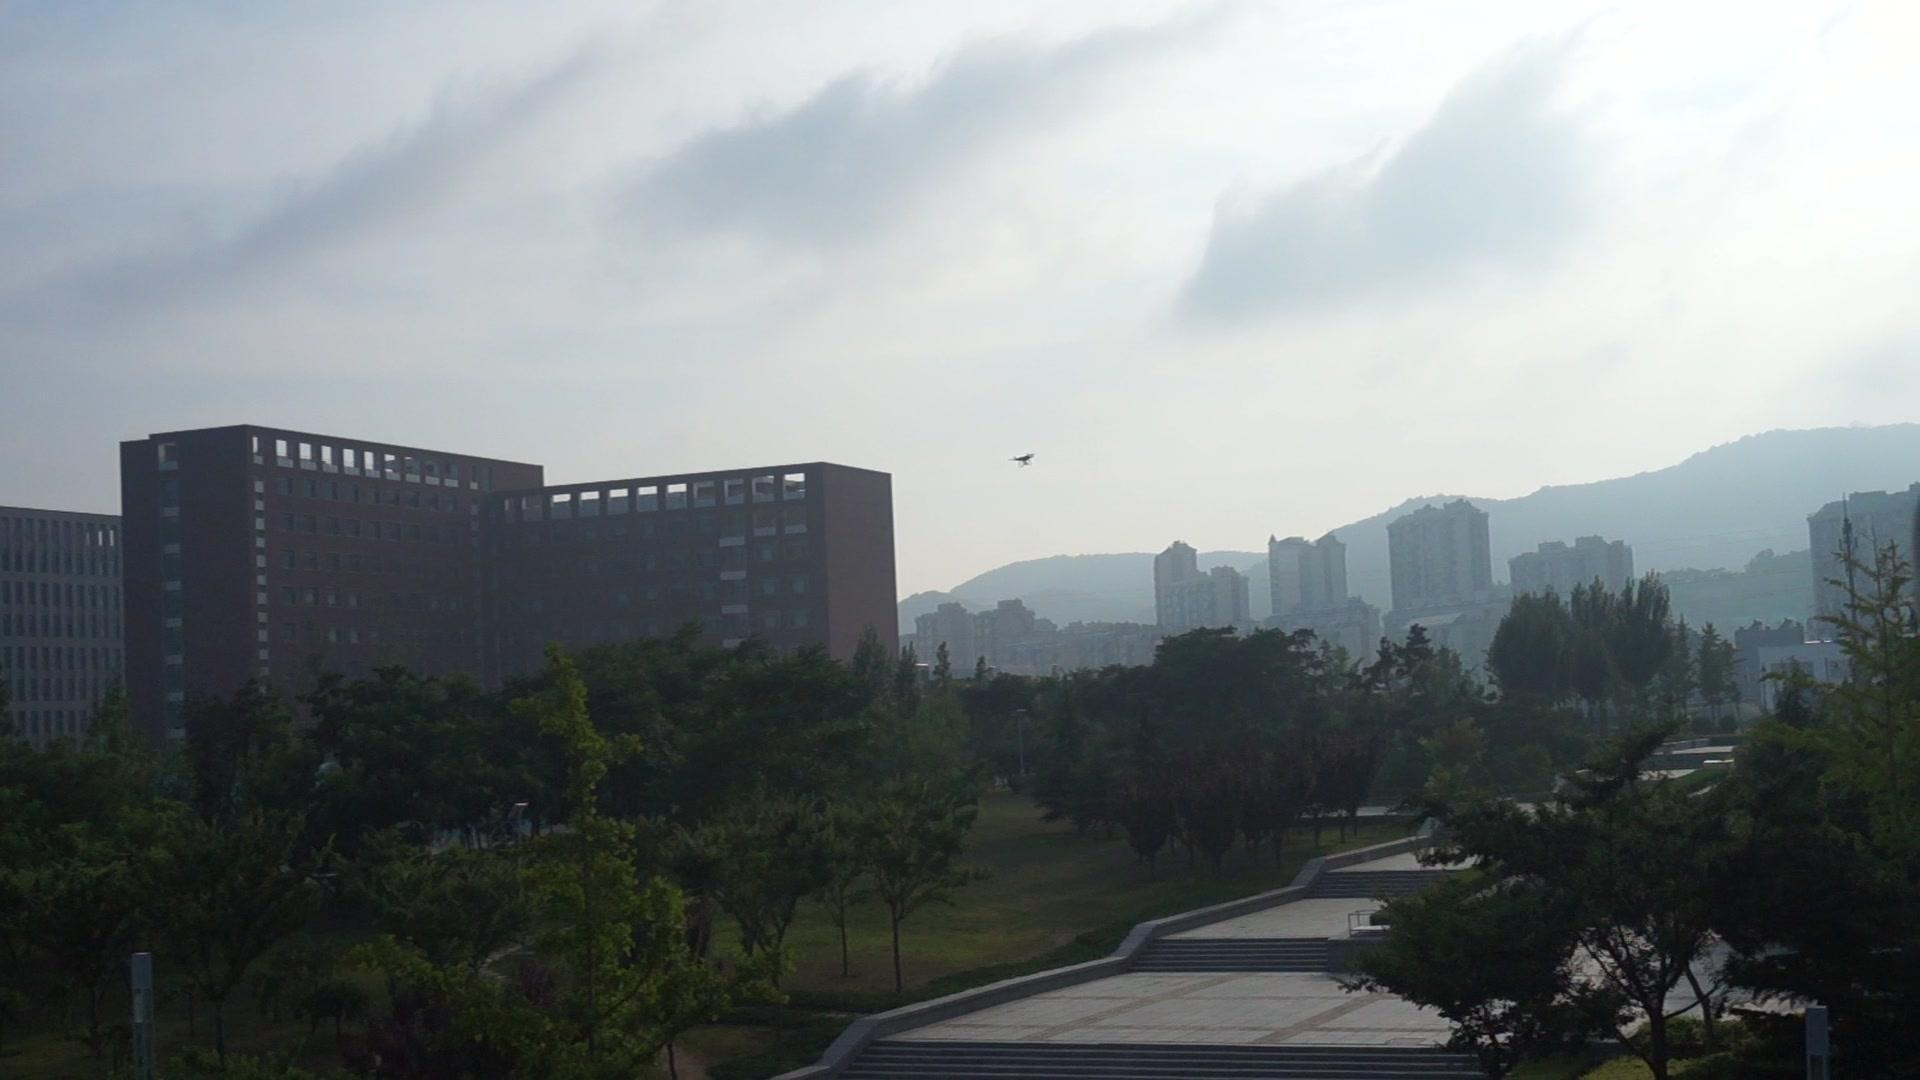UAV: (1009, 454, 1036, 469)
